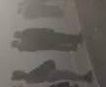person: (11, 59, 93, 83), (12, 28, 83, 42), (11, 40, 80, 53), (17, 8, 65, 18)
